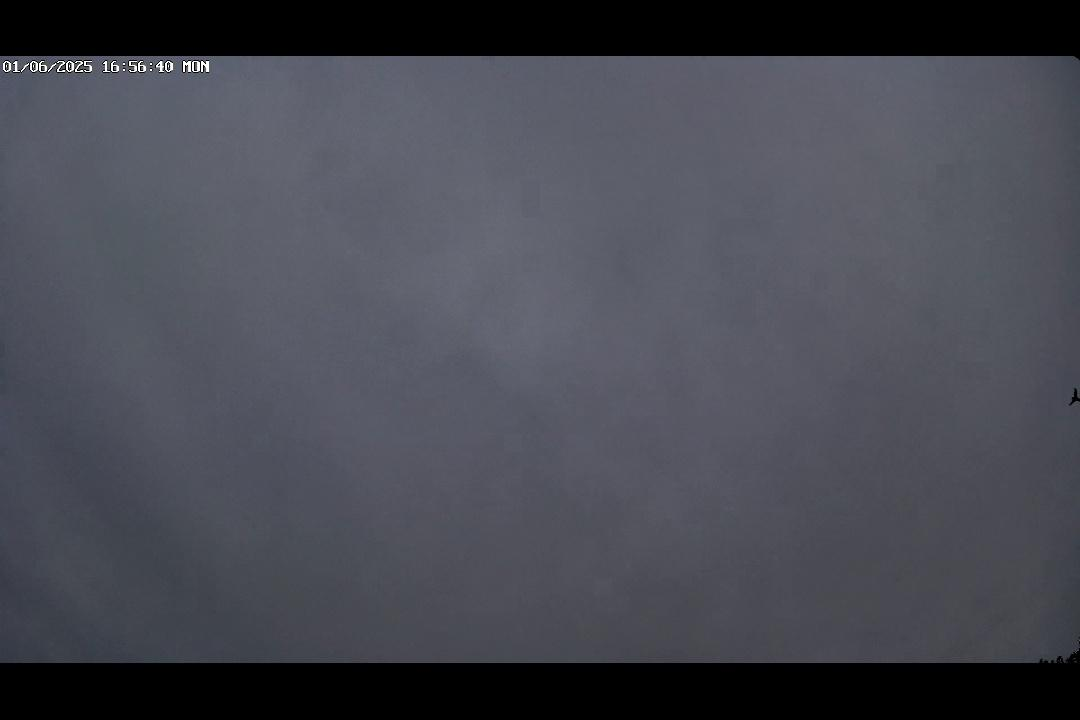WildLife: (1061, 381, 1080, 418)
